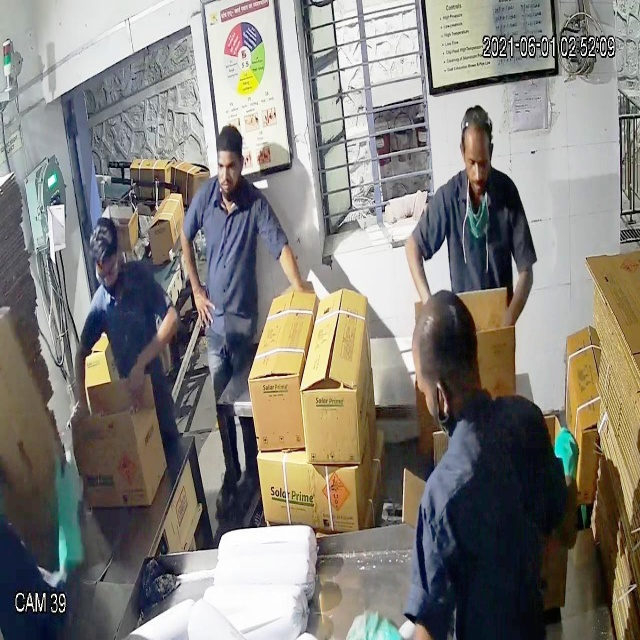Gafas: (90, 255, 124, 287)
Sin_gafas: (454, 146, 504, 179), (211, 149, 248, 186)
